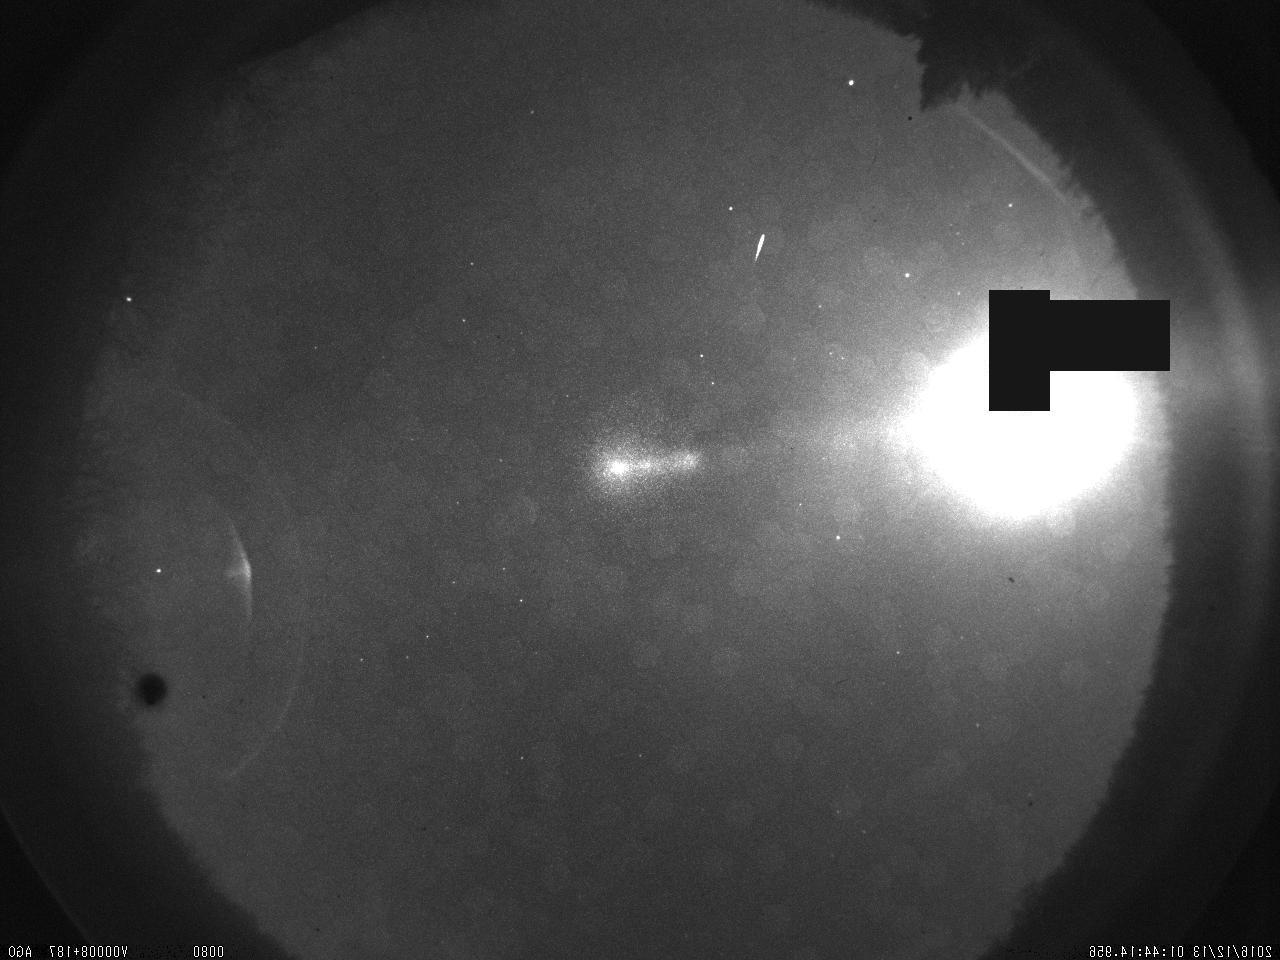meteor: (726, 200, 784, 308)
